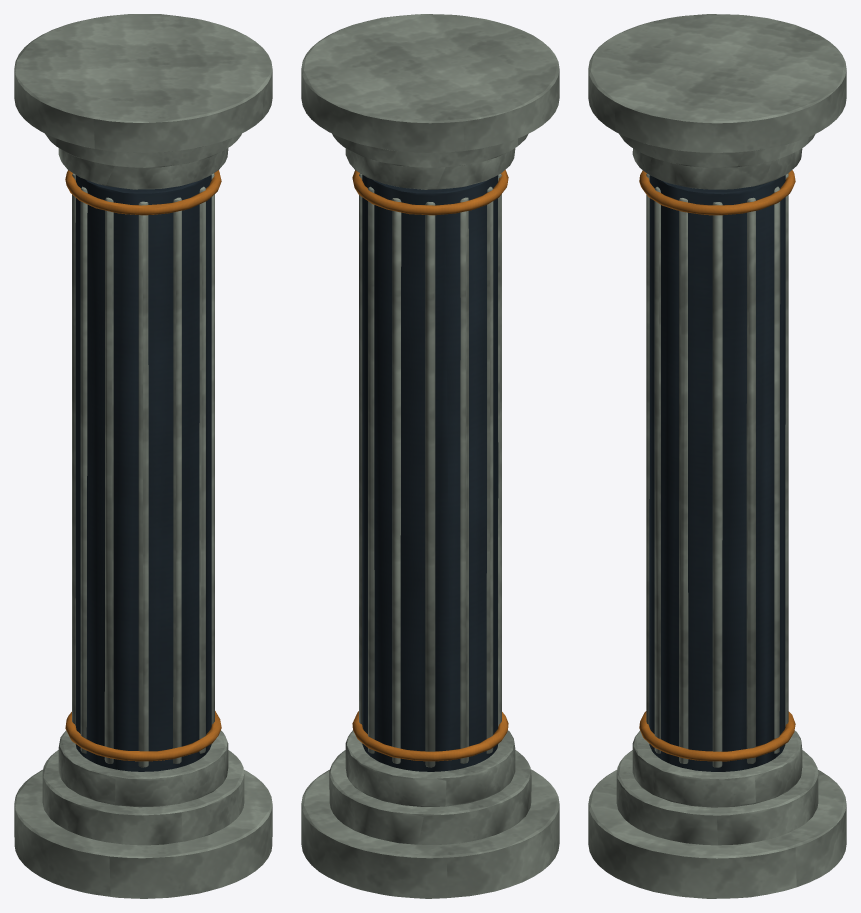
File: column_low.glb
3 views of the same model, side by side, from view 1: azimuth 30°, elevation 25°; view 2: azimuth 150°, elevation 25°; view 3: azimuth 270°, elevation 25° (orthographic).
Visible parts, largest first — view 1: Veined_marble, Weathered_basalt, Brushed_gold; view 2: Veined_marble, Weathered_basalt, Brushed_gold; view 3: Veined_marble, Weathered_basalt, Brushed_gold.
Boxes of the visible parts, x1,y1,x2,y2 form: Veined_marble: (14,14,272,898); Weathered_basalt: (75,175,211,771); Brushed_gold: (65,170,221,761); Veined_marble: (301,14,559,898); Weathered_basalt: (362,175,498,771); Brushed_gold: (352,170,508,761); Veined_marble: (588,14,846,898); Weathered_basalt: (649,175,785,771); Brushed_gold: (639,170,795,761).
Size of the model in its own units: 1.1 by 3.65 by 1.1.
Materials: 3 (3 with a texture image).
